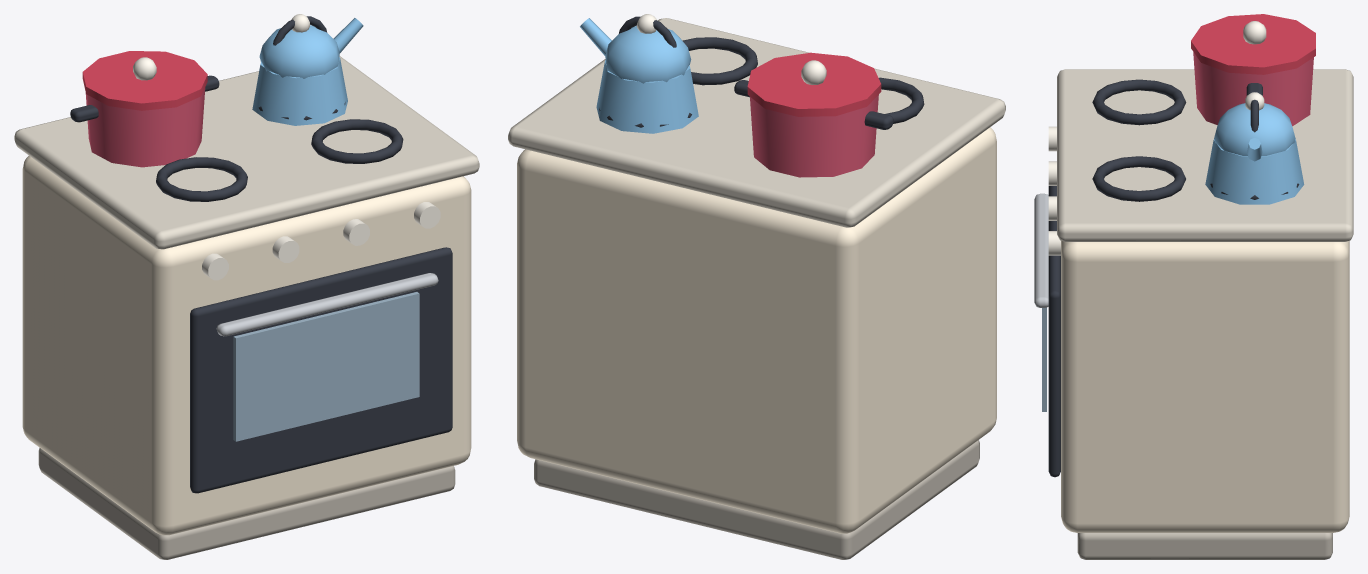
File: stove.glb
The picture shows the model from 3 angles, left to right: view 1: azimuth 30°, elevation 25°; view 2: azimuth 150°, elevation 25°; view 3: azimuth 270°, elevation 25°; orthographic projection. The views are drawn at different scales.
Bounding box in the file's own units: 0.92 × 1.16 × 0.775.
